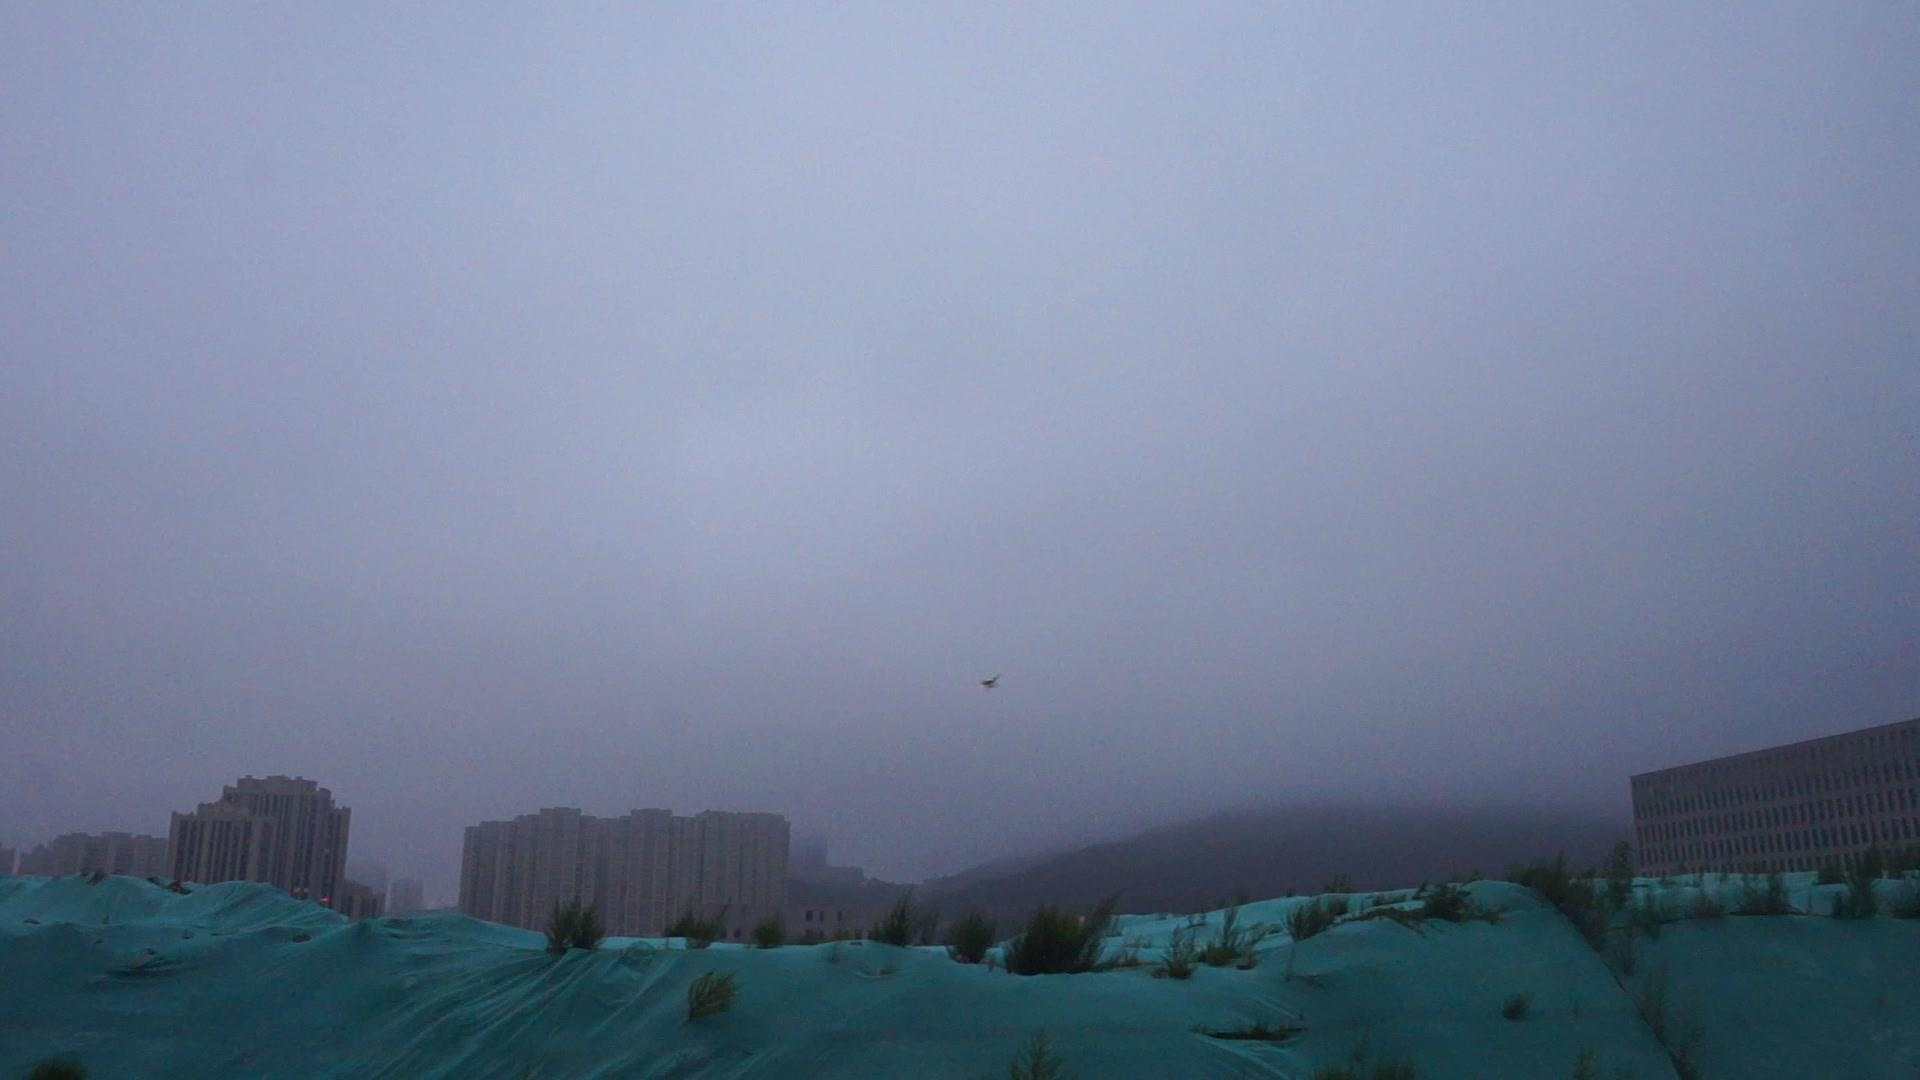UAV: (977, 675, 1001, 688)
